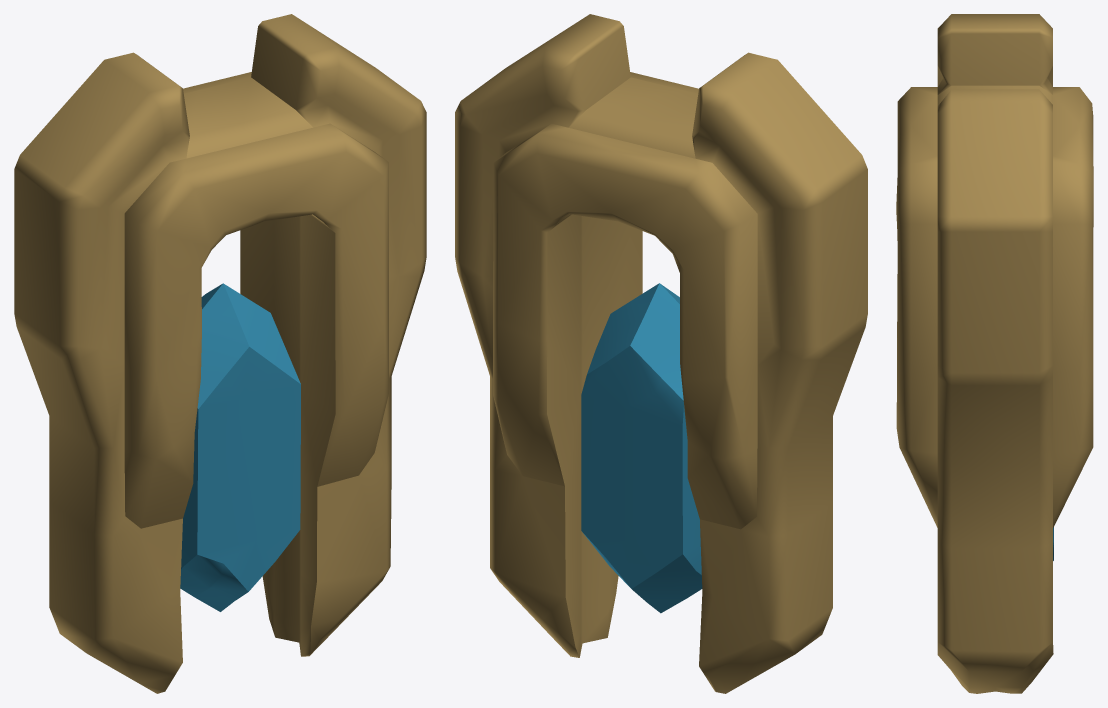
File: Key.fbx
3 views of the same model, side by side, from view 1: azimuth 30°, elevation 25°; view 2: azimuth 150°, elevation 25°; view 3: azimuth 270°, elevation 25° (orthographic). The views are drawn at different scales.
Parts seen in each view (by area): view 1: Key, KeyCrystal; view 2: Key, KeyCrystal; view 3: Key.
Boxes of the visible parts, <box> form: Key: <box>14,14,426,693</box>; KeyCrystal: <box>180,283,300,611</box>; Key: <box>455,14,867,693</box>; KeyCrystal: <box>581,283,702,613</box>; Key: <box>896,14,1093,693</box>.
Bounding box in the file's own units: 74.57 × 119 × 35.5.
